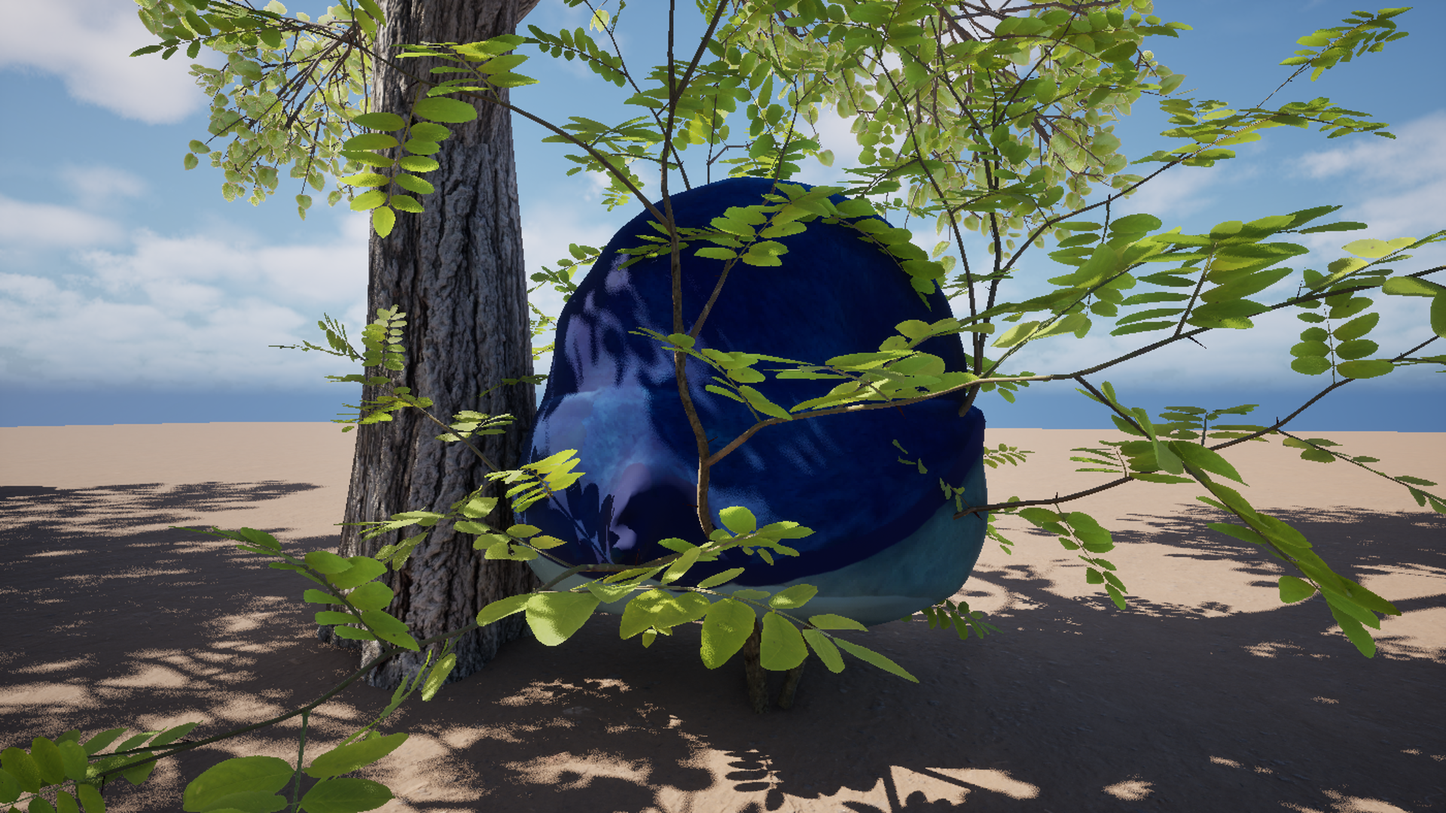Piplup: (290, 0, 1059, 813)
